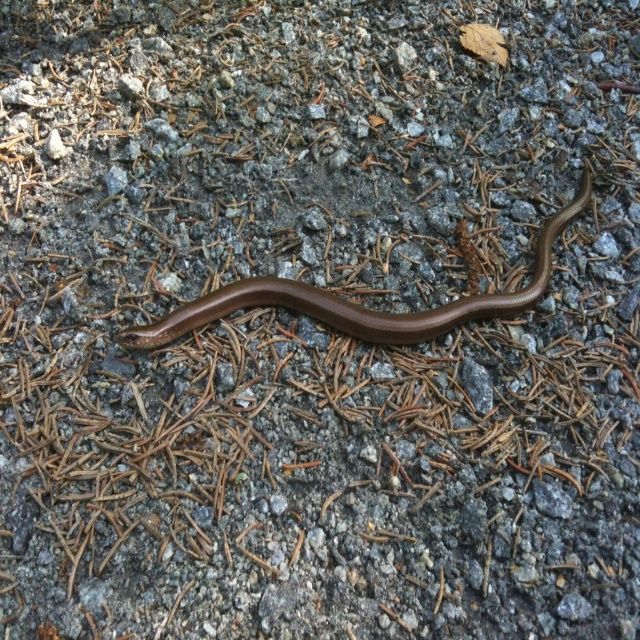Snake: (114, 155, 592, 348)
